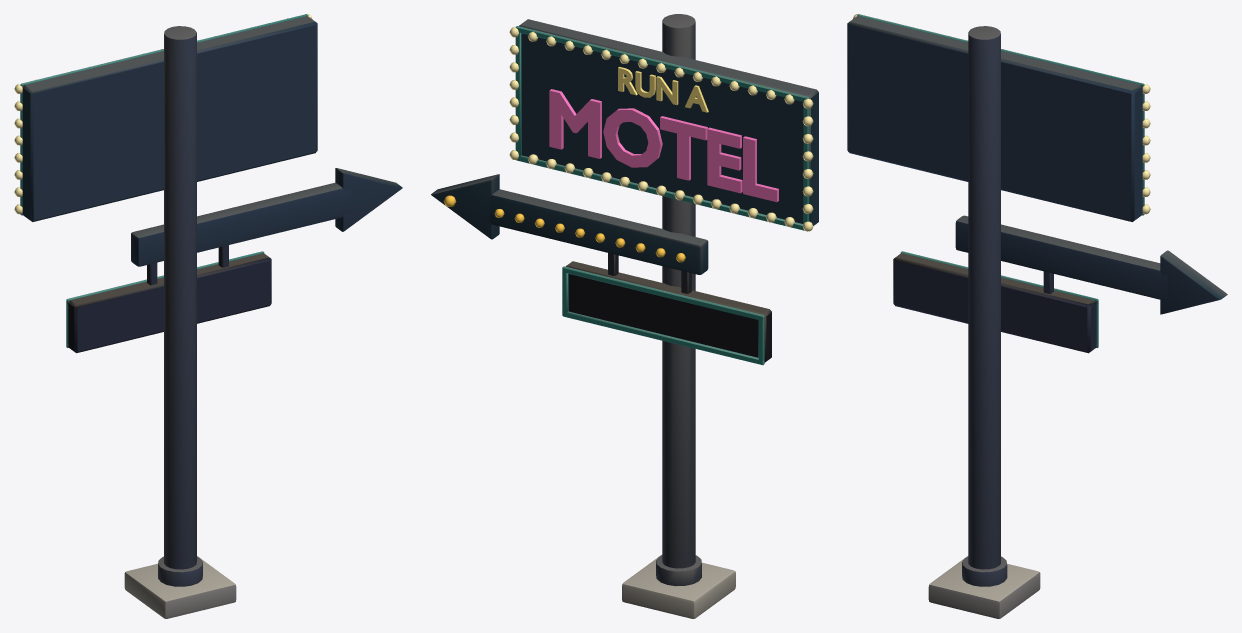
The model's file is MotelSign.fbx.
The picture shows the model from 3 angles, left to right: view 1: azimuth 30°, elevation 25°; view 2: azimuth 150°, elevation 25°; view 3: azimuth 330°, elevation 25°; orthographic projection. The views are drawn at different scales.
Parts seen in each view (by area): view 1: SM_Bld_MotelSign_Sign, SM_Bld_MotelSign_Trim, SM_Bld_MotelSign_Glow; view 2: SM_Bld_MotelSign_Sign, SM_Bld_MotelSign_Trim, SM_Bld_MotelSign_Glow; view 3: SM_Bld_MotelSign_Sign, SM_Bld_MotelSign_Trim, SM_Bld_MotelSign_Glow.
Part boxes in pixels (bbox=[...]): SM_Bld_MotelSign_Sign: bbox=[20, 14, 402, 353]; SM_Bld_MotelSign_Trim: bbox=[124, 26, 236, 618]; SM_Bld_MotelSign_Glow: bbox=[14, 14, 311, 214]; SM_Bld_MotelSign_Sign: bbox=[431, 19, 818, 365]; SM_Bld_MotelSign_Trim: bbox=[608, 14, 735, 618]; SM_Bld_MotelSign_Glow: bbox=[443, 27, 813, 262]; SM_Bld_MotelSign_Sign: bbox=[847, 14, 1227, 353]; SM_Bld_MotelSign_Trim: bbox=[928, 26, 1053, 618]; SM_Bld_MotelSign_Glow: bbox=[853, 14, 1150, 214].
Size of the model in its own units: 21.01 by 30 by 4.
